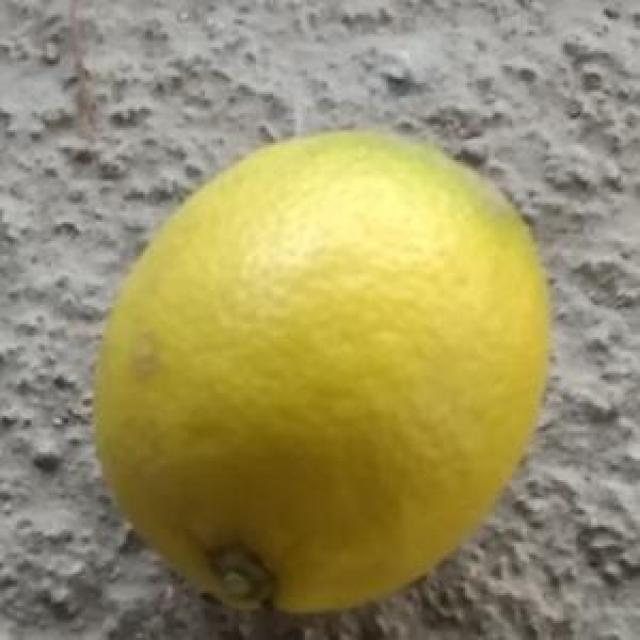lemon: (103, 126, 555, 614)
